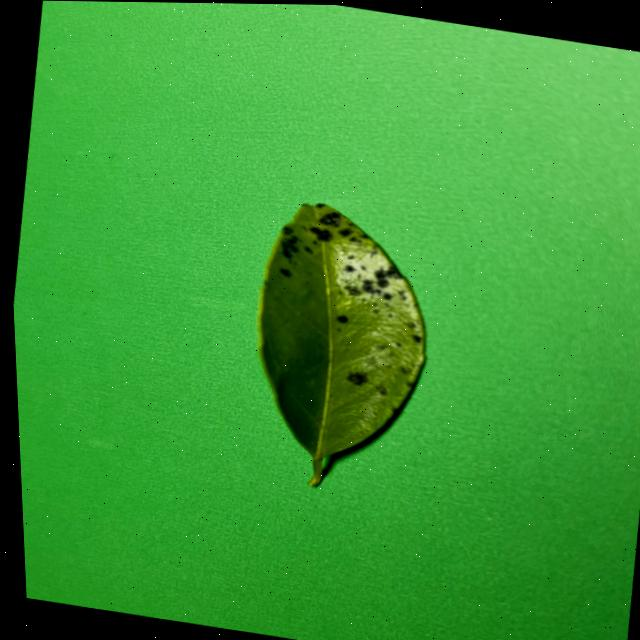sooty_mold: (259, 203, 425, 482)
